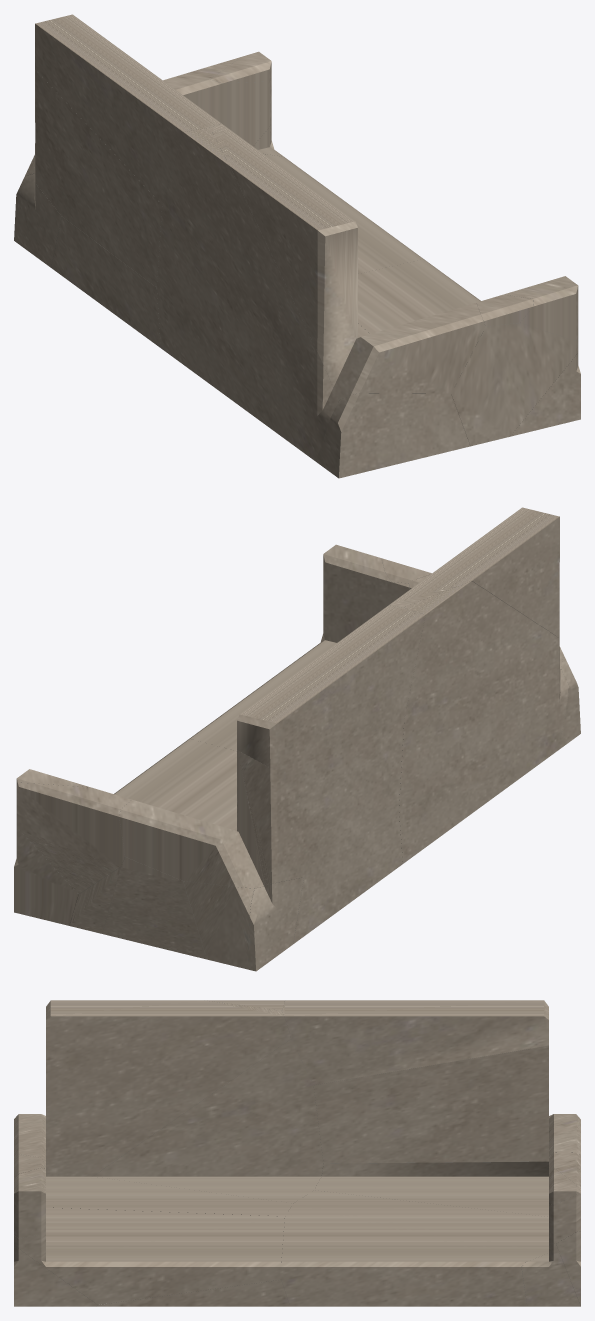
File: Sofa_Doi_Fractured.fbx
3 renders of one model, top to bottom at view 1: azimuth 30°, elevation 25°; view 2: azimuth 150°, elevation 25°; view 3: azimuth 270°, elevation 25°, orthographic. The views are drawn at different scales.
Visible parts, largest first — view 1: polySurface61_cell.003, polySurface61_cell.005, polySurface61_cell.018, polySurface61_cell.006, polySurface61_cell.016, polySurface61_cell.011, polySurface61_cell.008, polySurface61_cell.019, polySurface61_cell, polySurface61_cell.017, polySurface61_cell.009, polySurface61_cell.013 (+2 smaller); view 2: polySurface61_cell.003, polySurface61_cell.016, polySurface61_cell.006, polySurface61_cell.008, polySurface61_cell.005, polySurface61_cell.019, polySurface61_cell, polySurface61_cell.018, polySurface61_cell.014, polySurface61_cell.007, polySurface61_cell.017, polySurface61_cell.009 (+3 smaller); view 3: polySurface61_cell.005, polySurface61_cell, polySurface61_cell.016, polySurface61_cell.003, polySurface61_cell.018, polySurface61_cell.006, polySurface61_cell.008, polySurface61_cell.010, polySurface61_cell.013, polySurface61_cell.004, polySurface61_cell.009, polySurface61_cell.019 (+3 smaller).
Boxes of the visible parts, box(x1,y1,x2,y2) form: polySurface61_cell.003: box(156, 127, 339, 461); polySurface61_cell.005: box(210, 123, 485, 399); polySurface61_cell.018: box(358, 259, 578, 446); polySurface61_cell.006: box(35, 14, 220, 204); polySurface61_cell.016: box(32, 69, 162, 287); polySurface61_cell.011: box(316, 393, 470, 478); polySurface61_cell.008: box(51, 217, 160, 347); polySurface61_cell.019: box(163, 57, 271, 145); polySurface61_cell: box(264, 154, 425, 273); polySurface61_cell.017: box(14, 173, 61, 267); polySurface61_cell.009: box(504, 276, 578, 340); polySurface61_cell.013: box(510, 352, 580, 436); polySurface61_cell.003: box(399, 581, 568, 863); polySurface61_cell.016: box(119, 719, 404, 888); polySurface61_cell.006: box(237, 605, 425, 768); polySurface61_cell.008: box(102, 809, 402, 959); polySurface61_cell.005: box(388, 507, 563, 669); polySurface61_cell.019: box(16, 782, 131, 893); polySurface61_cell: box(69, 739, 236, 933); polySurface61_cell.018: box(187, 582, 409, 750); polySurface61_cell.014: box(183, 881, 254, 969); polySurface61_cell.007: box(14, 826, 78, 925); polySurface61_cell.017: box(248, 877, 303, 971); polySurface61_cell.009: box(323, 544, 391, 603); polySurface61_cell.005: box(14, 1000, 293, 1216); polySurface61_cell: box(281, 1190, 548, 1306); polySurface61_cell.016: box(313, 1045, 580, 1163); polySurface61_cell.003: box(93, 1000, 323, 1203); polySurface61_cell.018: box(14, 1161, 284, 1304); polySurface61_cell.006: box(282, 1000, 548, 1084); polySurface61_cell.008: box(314, 1161, 548, 1216); polySurface61_cell.010: box(96, 1280, 290, 1306); polySurface61_cell.013: box(14, 1247, 97, 1306); polySurface61_cell.004: box(521, 1243, 580, 1306); polySurface61_cell.009: box(14, 1168, 45, 1238); polySurface61_cell.019: box(549, 1152, 580, 1243).
Size of the model in its own units: 578 by 530 by 1342.
